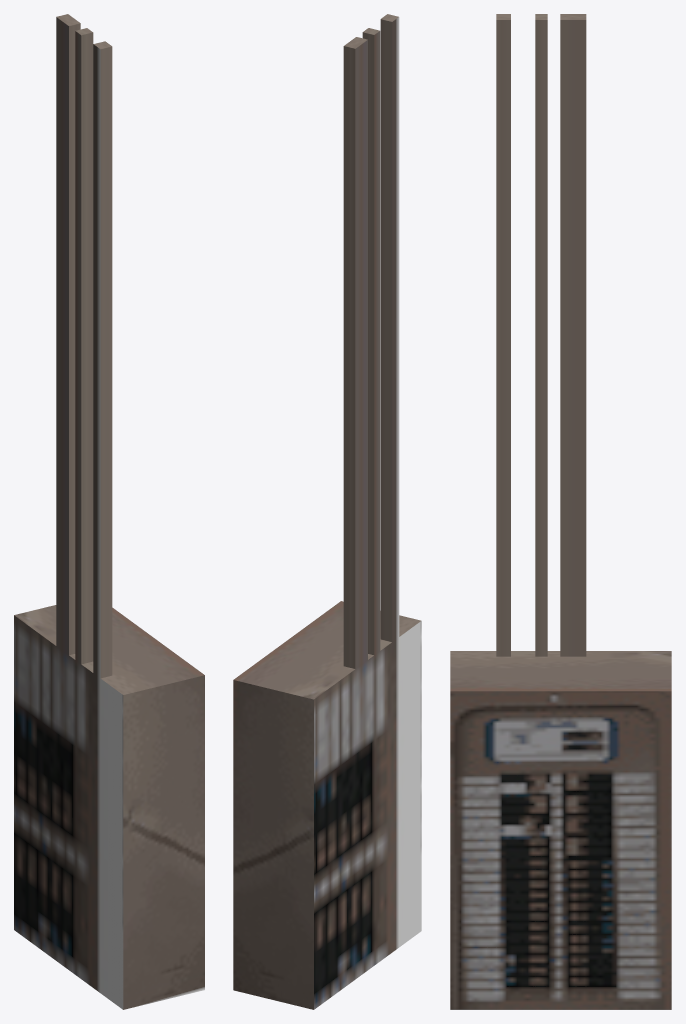
File: power box.fbx
3 renders of one model, left to right at view 1: azimuth 30°, elevation 25°; view 2: azimuth 150°, elevation 25°; view 3: azimuth 270°, elevation 25°, orthographic. The views are drawn at different scales.
Parts seen in each view (by area): view 1: Cube.055; view 2: Cube.055; view 3: Cube.055.
Boxes of the visible parts, x1,y1,x2,y2 form: Cube.055: (14, 14, 204, 1009); Cube.055: (233, 14, 421, 1009); Cube.055: (450, 14, 671, 1009).
Size of the model in its own units: 2 by 22.08 by 4.63.
